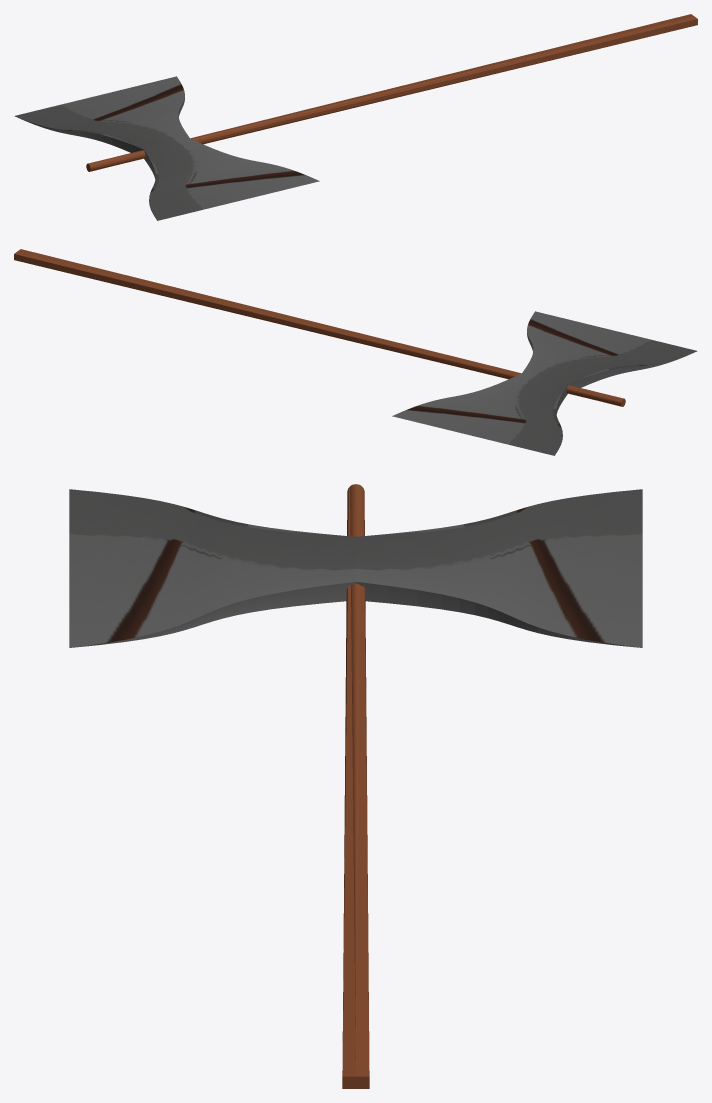
File: axe.glb
The picture shows the model from 3 angles, top to bottom: view 1: azimuth 30°, elevation 25°; view 2: azimuth 150°, elevation 25°; view 3: azimuth 270°, elevation 25°; orthographic projection. The views are drawn at different scales.
Parts seen in each view (by area): view 1: Axe; view 2: Axe; view 3: Axe.
Part boxes in pixels (x1,y1,x2,y2): Axe: (14, 14, 697, 220); Axe: (14, 249, 697, 455); Axe: (69, 484, 642, 1088).
Bounding box in the file's own units: 1.88 × 0.0275 × 0.7655.
2 materials, 1 textured.
